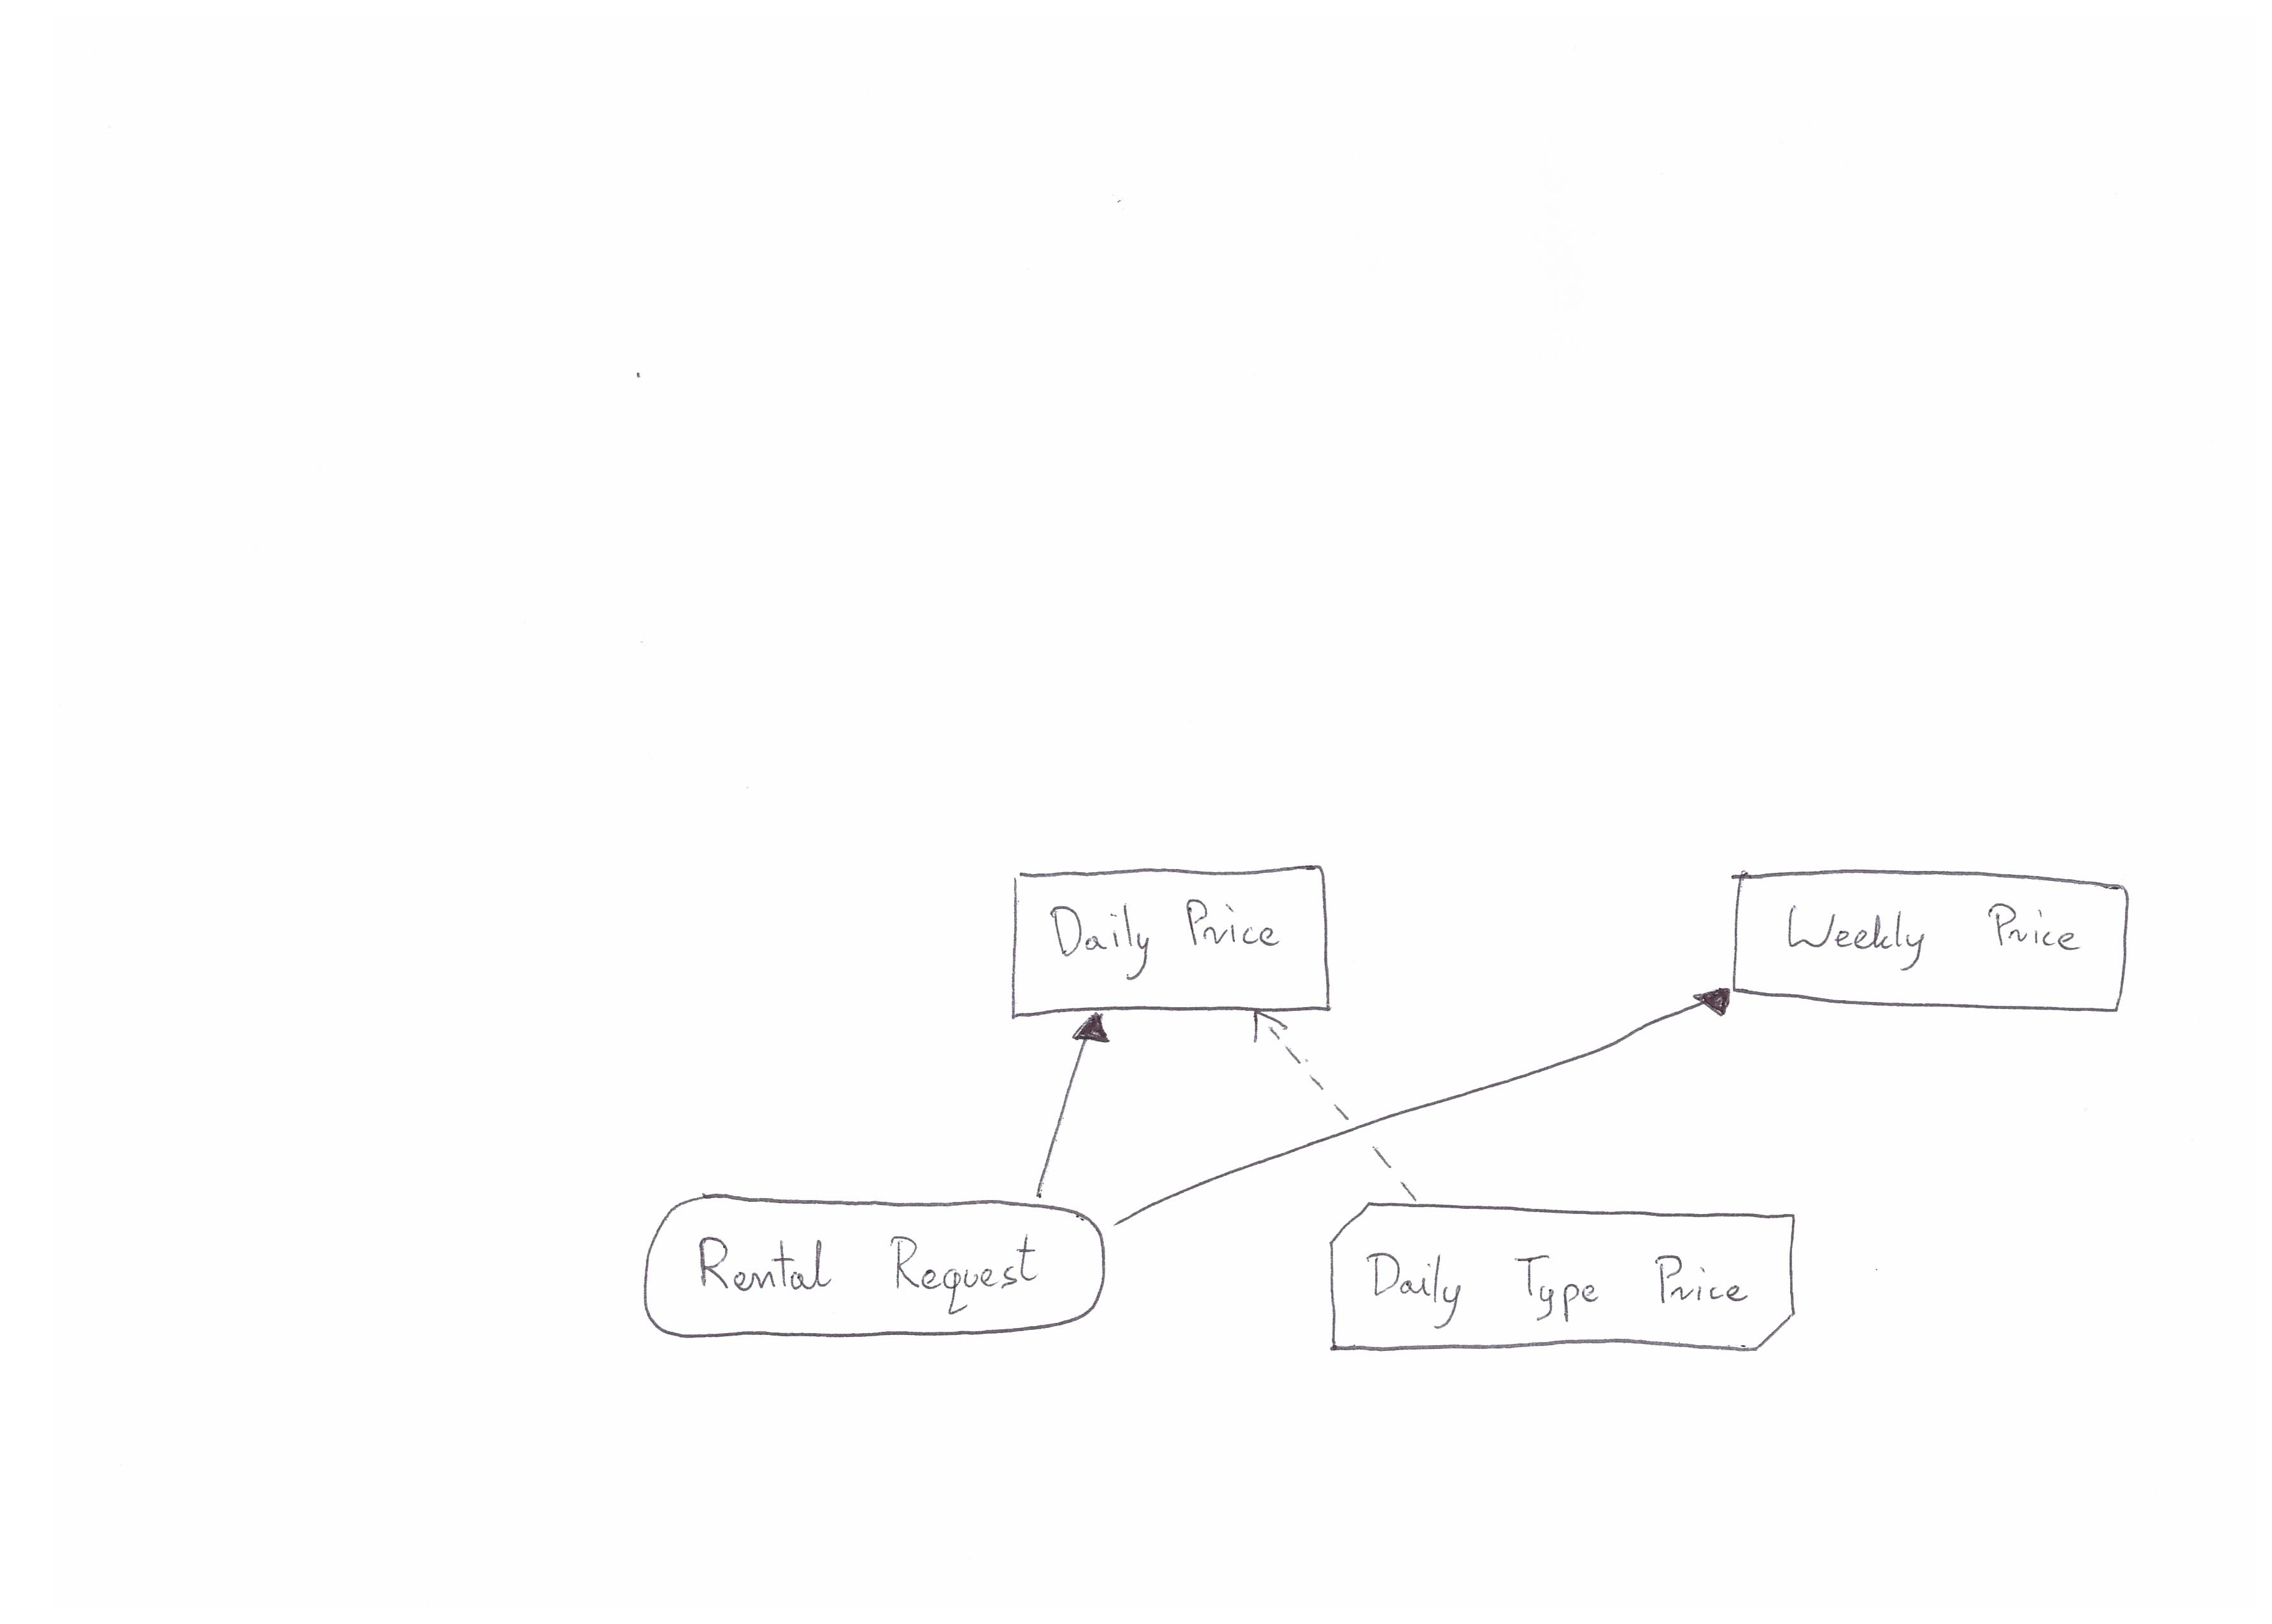arrow_information_requirement: (1102, 977, 1738, 1234), (1021, 1009, 1119, 1206)
arrow_knowledge_requirement: (1221, 1002, 1437, 1213)
node_decision: (1727, 863, 2140, 1025), (1000, 858, 1351, 1021)
node_input_data: (640, 1185, 1114, 1357)
node_knowledge_model: (1311, 1197, 1824, 1373)
text: (1351, 1236, 1768, 1329), (689, 1220, 1056, 1316), (1773, 888, 2103, 986), (1033, 888, 1307, 991)
